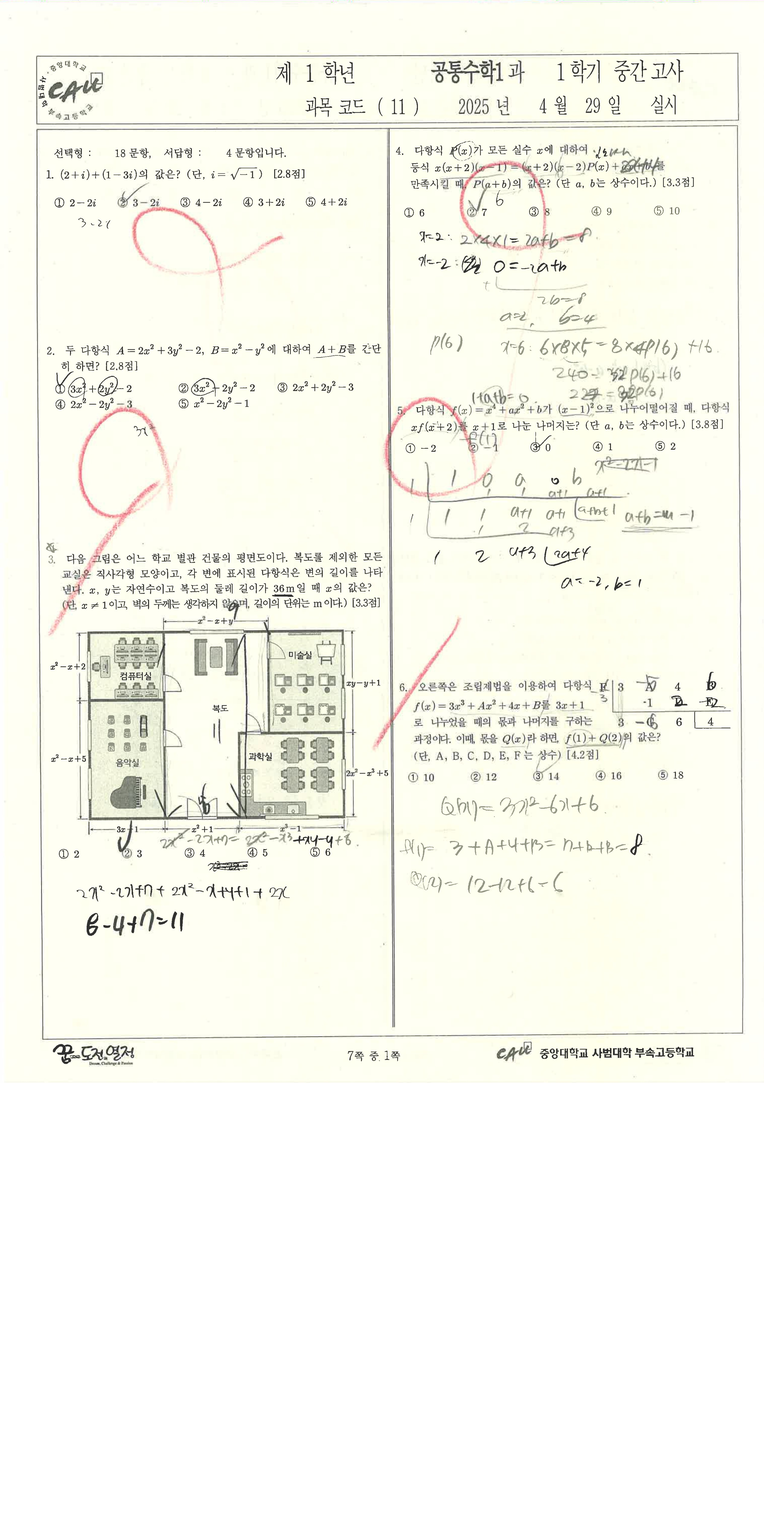problem: (44, 547, 385, 869), (396, 669, 730, 784), (394, 136, 711, 227), (40, 339, 386, 416), (393, 392, 734, 462), (41, 165, 376, 214)
